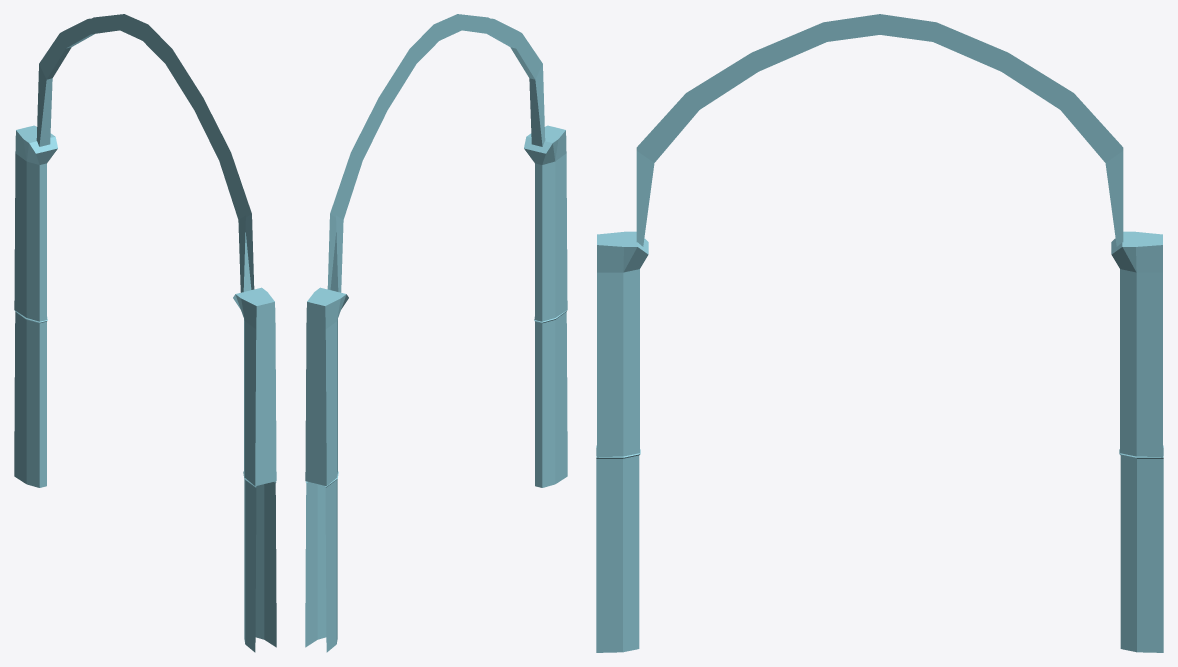
File: Museum_Ark_Big_01.fbx
3 views of the same model, side by side, from view 1: azimuth 30°, elevation 25°; view 2: azimuth 150°, elevation 25°; view 3: azimuth 270°, elevation 25° (orthographic). The views are drawn at different scales.
Visible parts, largest first — view 1: Archi_Piliers.001; view 2: Archi_Piliers.001; view 3: Archi_Piliers.001.
Boxes of the visible parts, <box> form: Archi_Piliers.001: <box>14,14,276,652</box>; Archi_Piliers.001: <box>305,14,567,652</box>; Archi_Piliers.001: <box>596,14,1163,652</box>.
Size of the model in its own units: 108 by 2088 by 1701.
